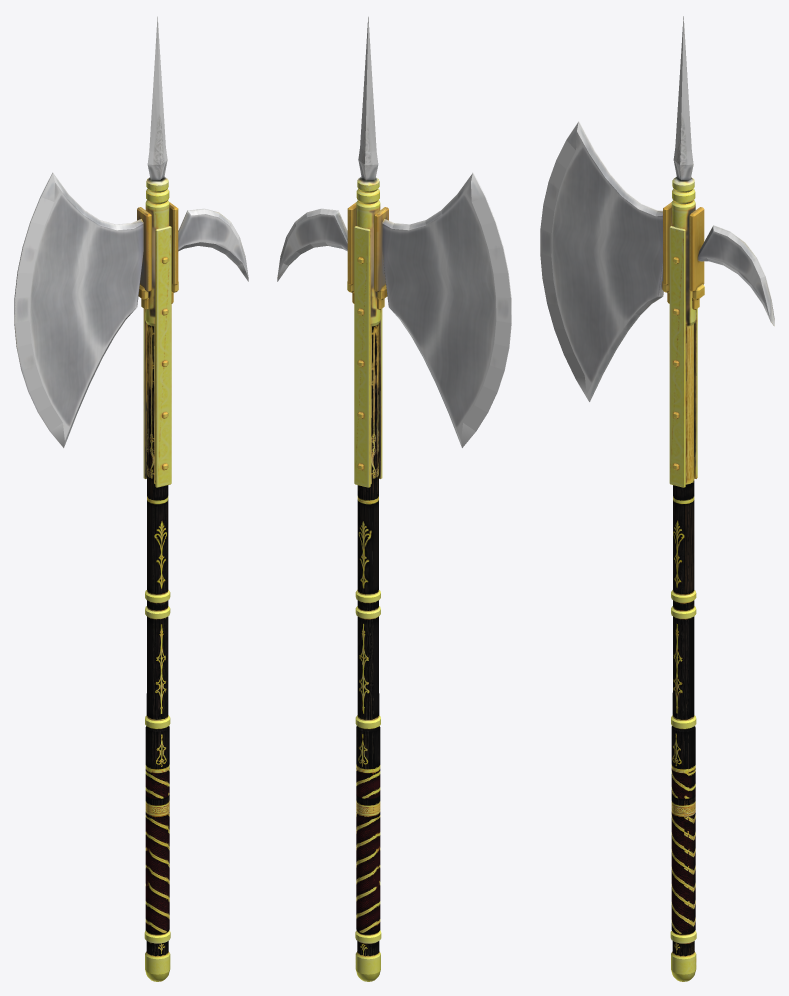
File: w_halberd_t3.glb
3 views of the same model, side by side, from view 1: azimuth 30°, elevation 25°; view 2: azimuth 150°, elevation 25°; view 3: azimuth 330°, elevation 25° (orthographic).
Visible parts, largest first — view 1: w_halberd; view 2: w_halberd; view 3: w_halberd.
Part boxes in pixels (box(x1,y1,x2,y2)): w_halberd: box(14, 16, 248, 981); w_halberd: box(277, 16, 511, 981); w_halberd: box(540, 16, 774, 981).
Bounding box in the file's own units: 30.38 × 120 × 3.78.
Materials: 1 (1 with a texture image).
